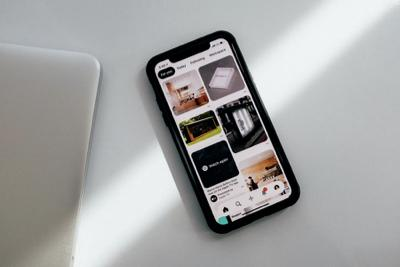Mobile Phone: (144, 28, 301, 234)
